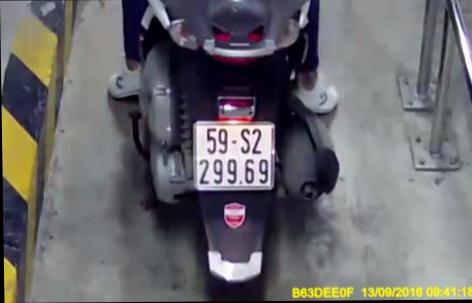LP: (191, 119, 277, 192)
